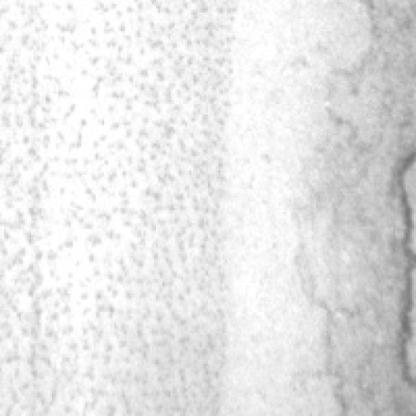pitted_surface: (2, 2, 237, 416), (300, 19, 393, 416)
